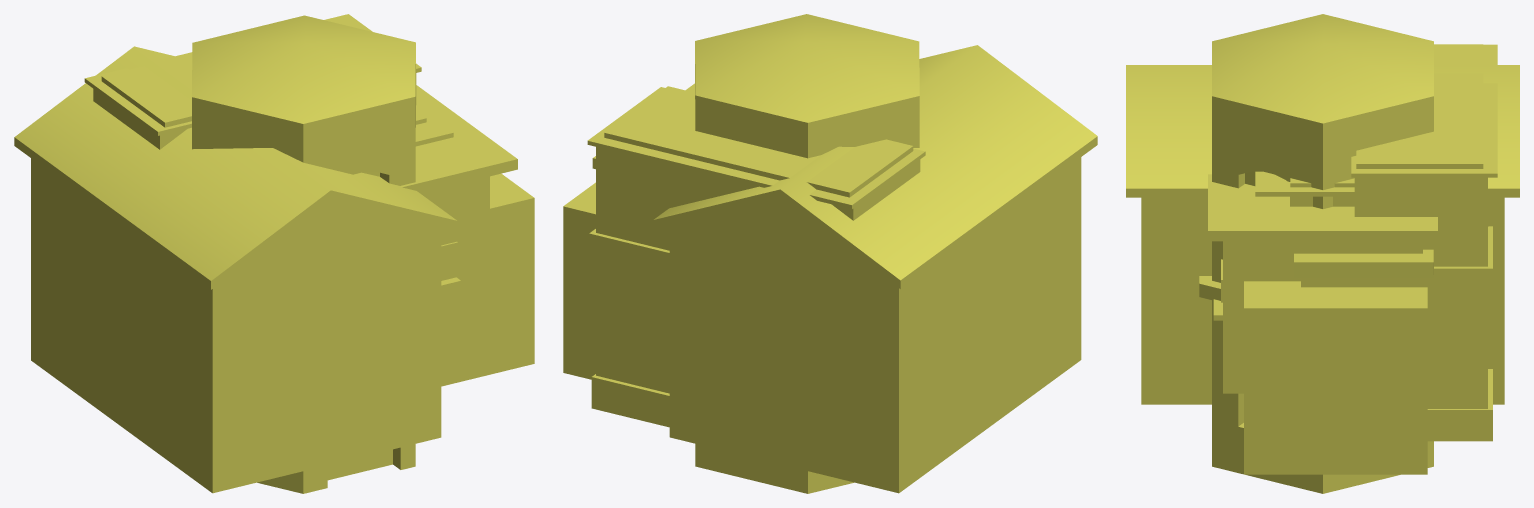
File: models02.fbx
3 views of the same model, side by side, from view 1: azimuth 30°, elevation 25°; view 2: azimuth 150°, elevation 25°; view 3: azimuth 270°, elevation 25° (orthographic).
Visible parts, largest first — view 1: house_body1, building, store_structure, hospital_main_structure, full_structure; view 2: house_body1, hospital_main_structure, building; view 3: house_body1, building, hospital_main_structure, store_structure, ground_floor, full_structure.
Boxes of the visible parts, x1,y1,x2,y2 form: house_body1: [14, 46, 534, 493]; building: [192, 15, 415, 493]; store_structure: [400, 85, 517, 342]; hospital_main_structure: [84, 14, 421, 149]; full_structure: [415, 105, 460, 290]; house_body1: [563, 45, 1097, 493]; hospital_main_structure: [587, 86, 925, 427]; building: [695, 14, 919, 493]; house_body1: [1126, 65, 1519, 474]; building: [1199, 14, 1433, 493]; hospital_main_structure: [1351, 44, 1497, 441]; store_structure: [1208, 174, 1437, 393]; ground_floor: [1294, 249, 1433, 367]; full_structure: [1213, 171, 1354, 320].
Bounding box in the file's own units: 183 × 181 × 163.
